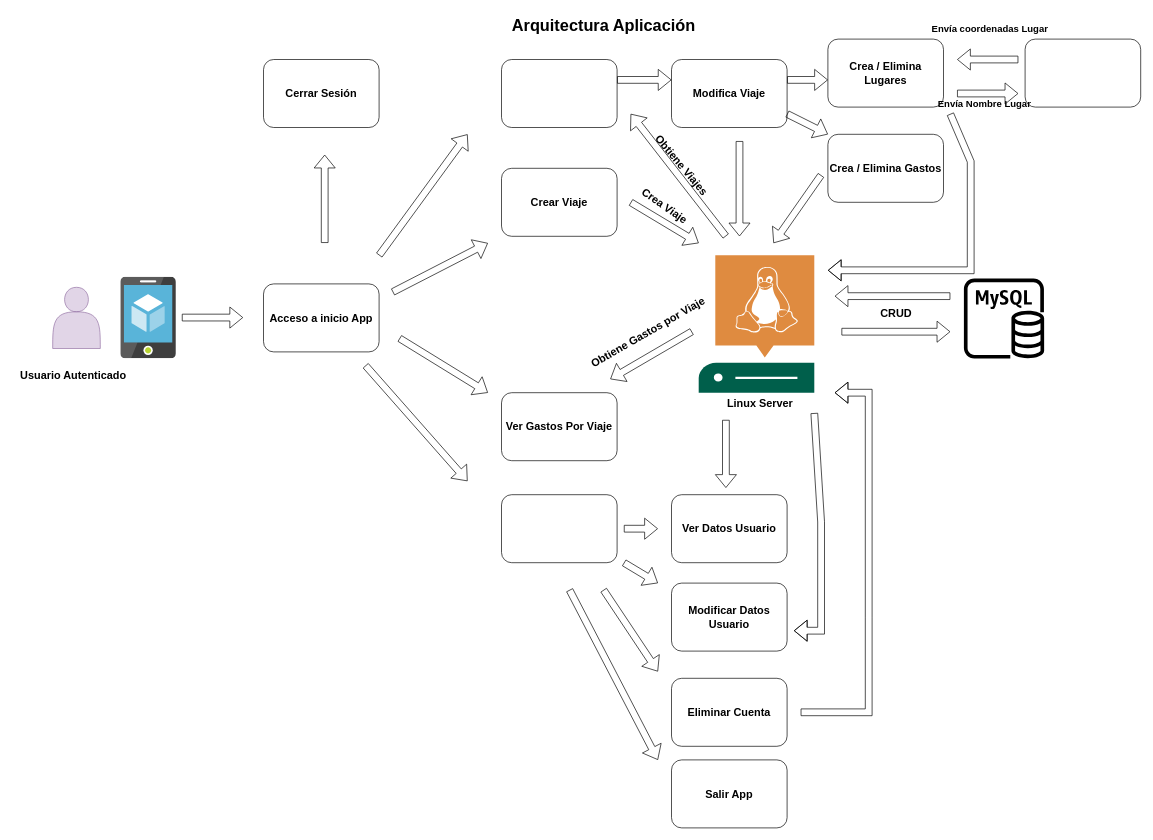
Some shapes in this 1153 by 840 pixel diagram are drawn without their labels. Each missing label, with the centre of its shape:
API Places Google: the point at 1082,72
Configuración: the point at 559,528
Listar Viajes: the point at 559,93
